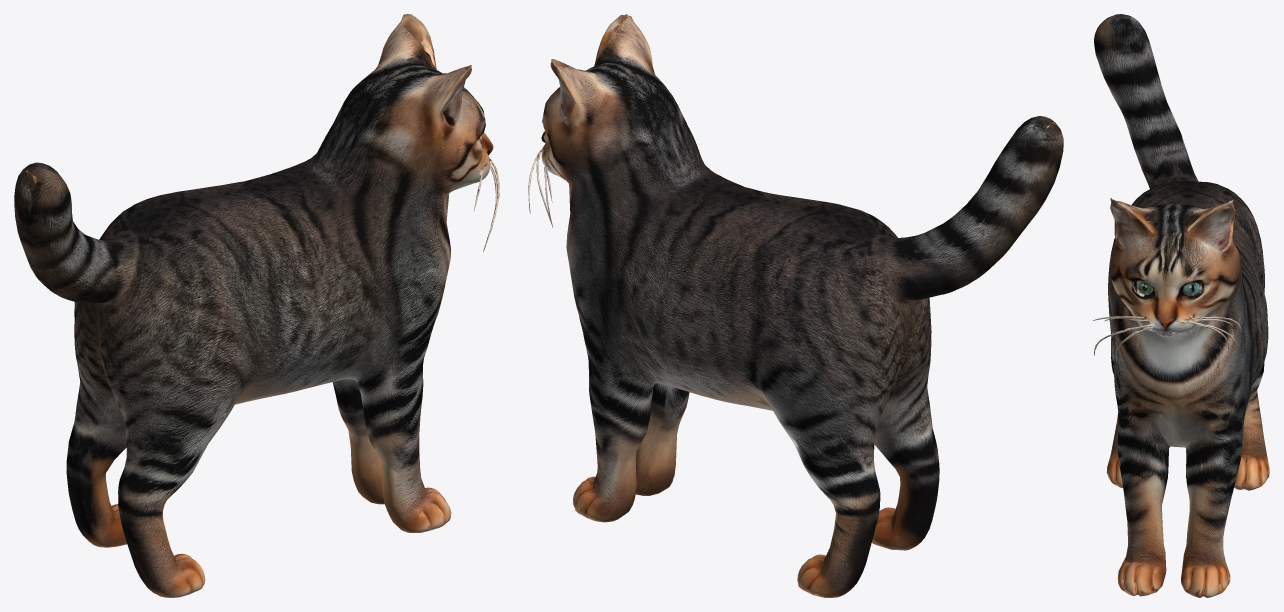
The model's file is PICKLECCAT.glb.
3 views of the same model, side by side, from view 1: azimuth 30°, elevation 25°; view 2: azimuth 150°, elevation 25°; view 3: azimuth 270°, elevation 25° (orthographic). The views are drawn at different scales.
Visible parts, largest first — view 1: fit; view 2: fit; view 3: fit.
Boxes of the visible parts, <box> form: fit: <box>14,14,499,597</box>; fit: <box>528,14,1063,597</box>; fit: <box>1093,14,1269,597</box>.
Size of the model in its own units: 1.13 by 1 by 0.3985.
Materials: 1 (1 with a texture image).
